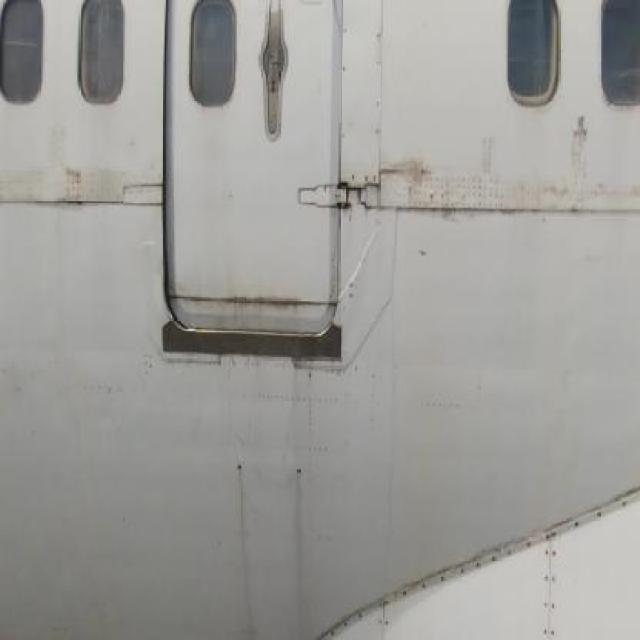Missing-Rivet: (424, 497, 598, 601), (537, 520, 560, 640)
Rust: (232, 463, 262, 625), (288, 464, 310, 624), (221, 283, 307, 319), (385, 148, 440, 203), (62, 158, 92, 213)
Scartch: (559, 106, 599, 202), (475, 128, 499, 174)
